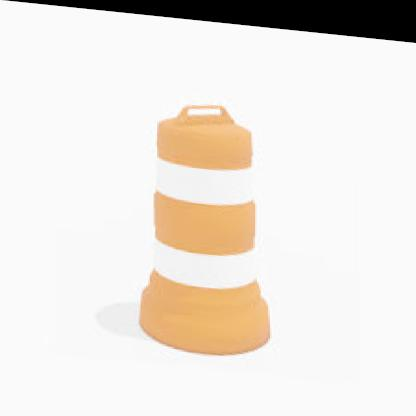obstacle: (124, 93, 270, 338)
